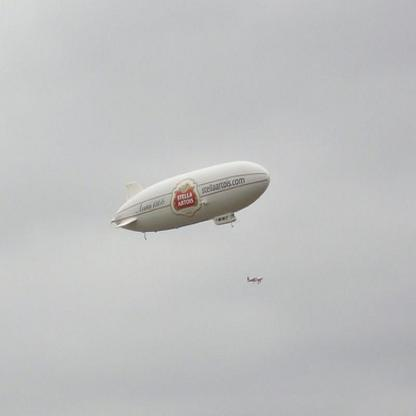Airship: (112, 159, 272, 240)
